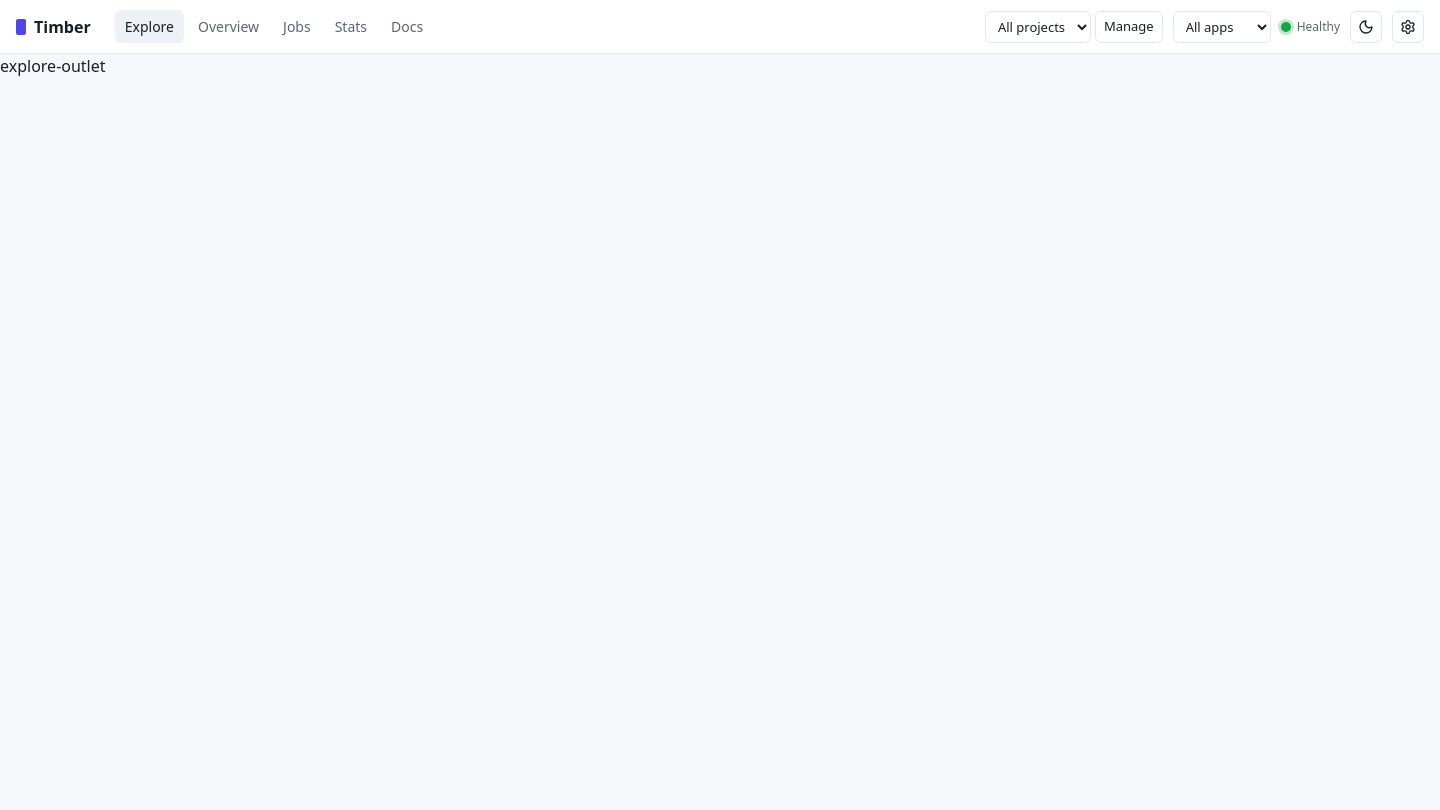
Scenario: RootShell › closes the Settings dialog on Escape
The image size is (1440, 810).
Click the button named "settings" at (1408, 26), box [1392,10,1424,42]
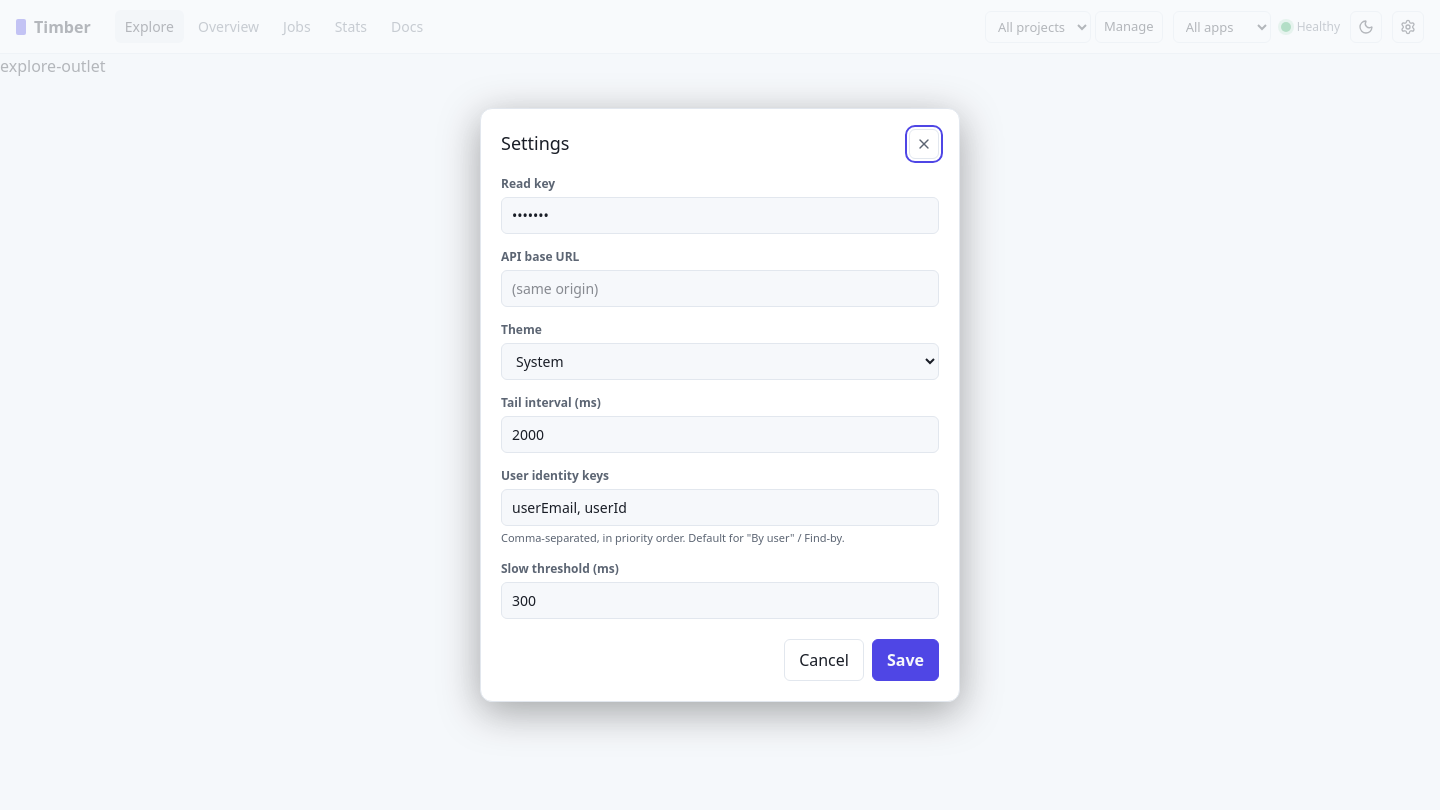
Check: the dialog is shown, box [480,108,960,702]
Press Escape
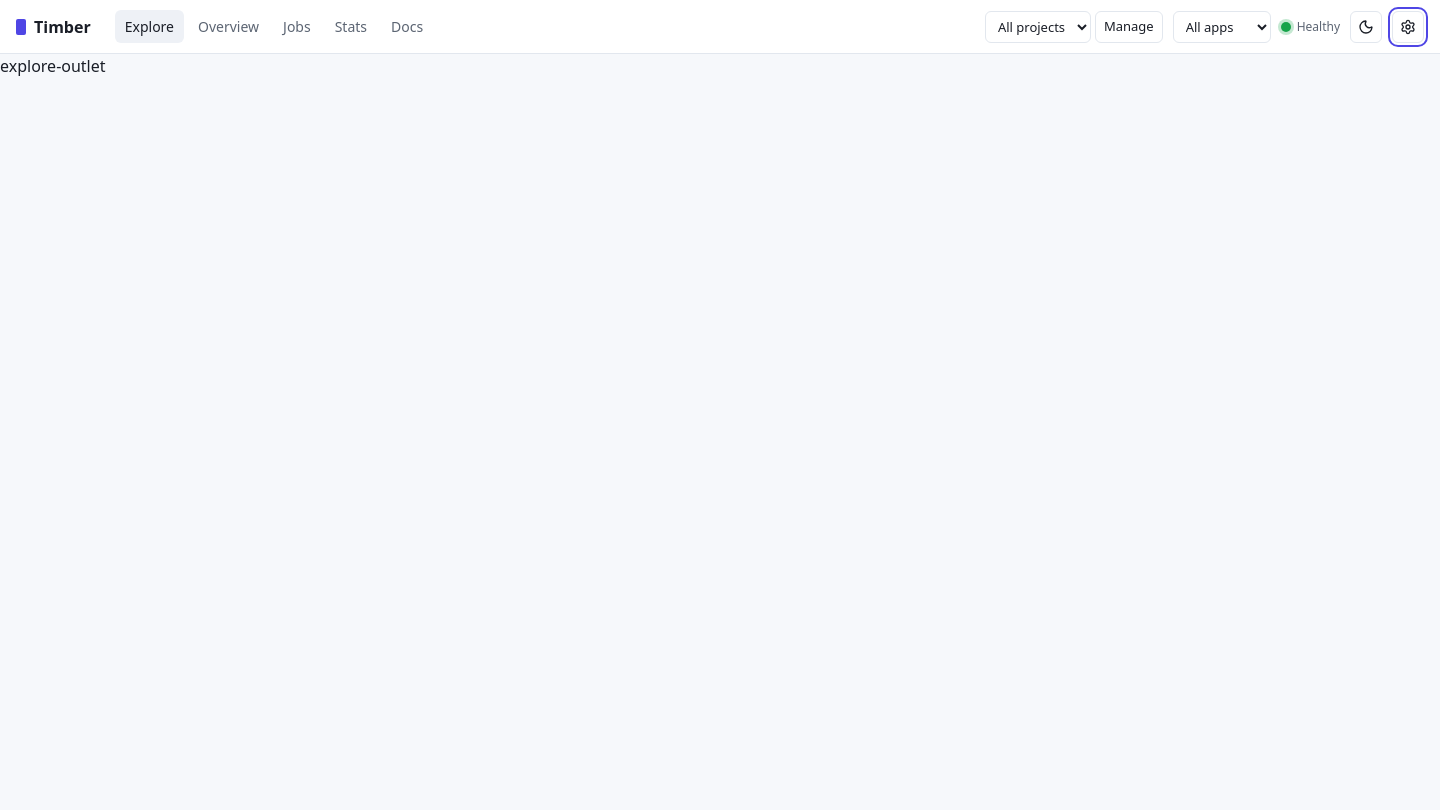
Check: the dialog is gone
